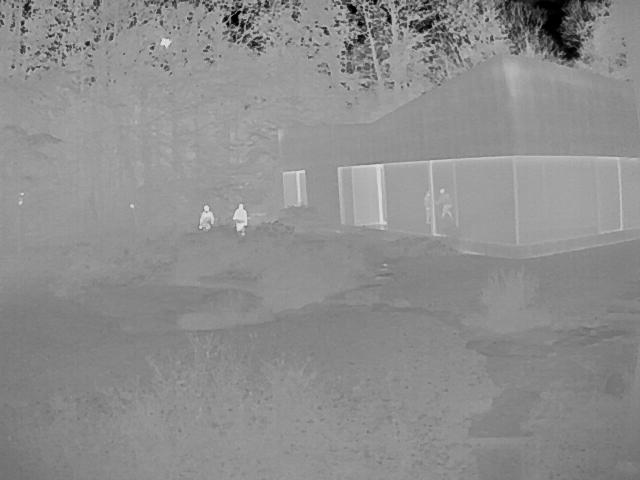person: (234, 202, 250, 235), (439, 186, 456, 216), (199, 203, 215, 230), (424, 190, 434, 224)
